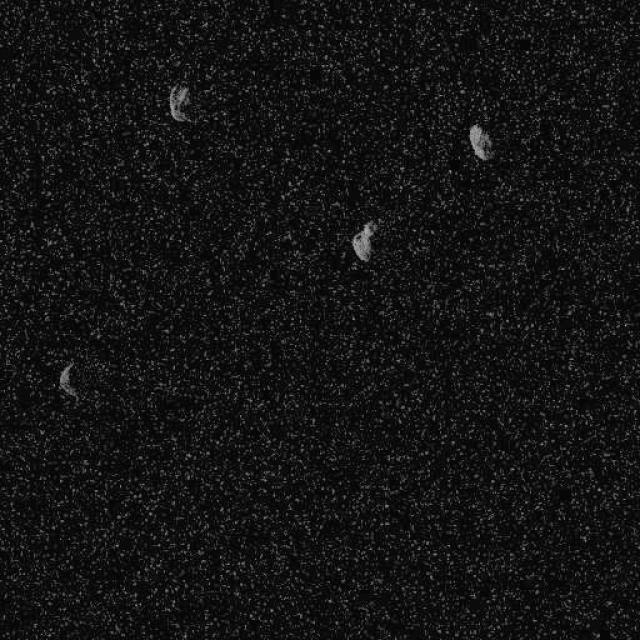D2: (350, 220, 378, 262), (168, 80, 192, 122), (468, 122, 492, 162), (58, 360, 78, 400)
